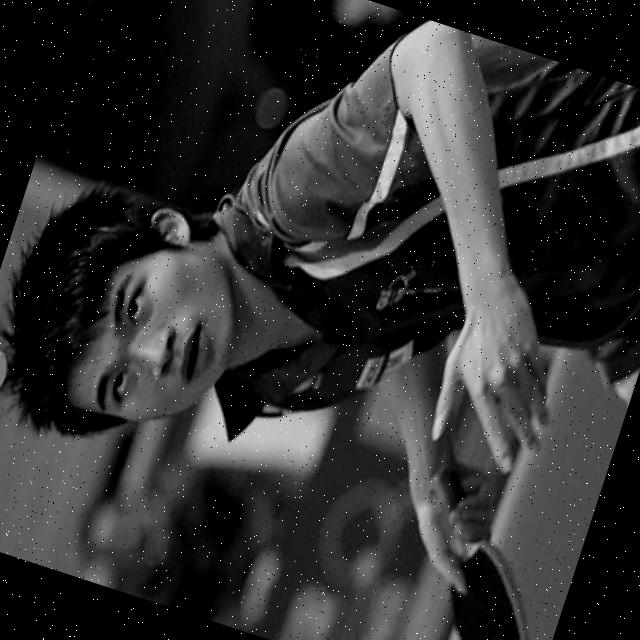ping-pong-ball: (0, 341, 13, 401)
